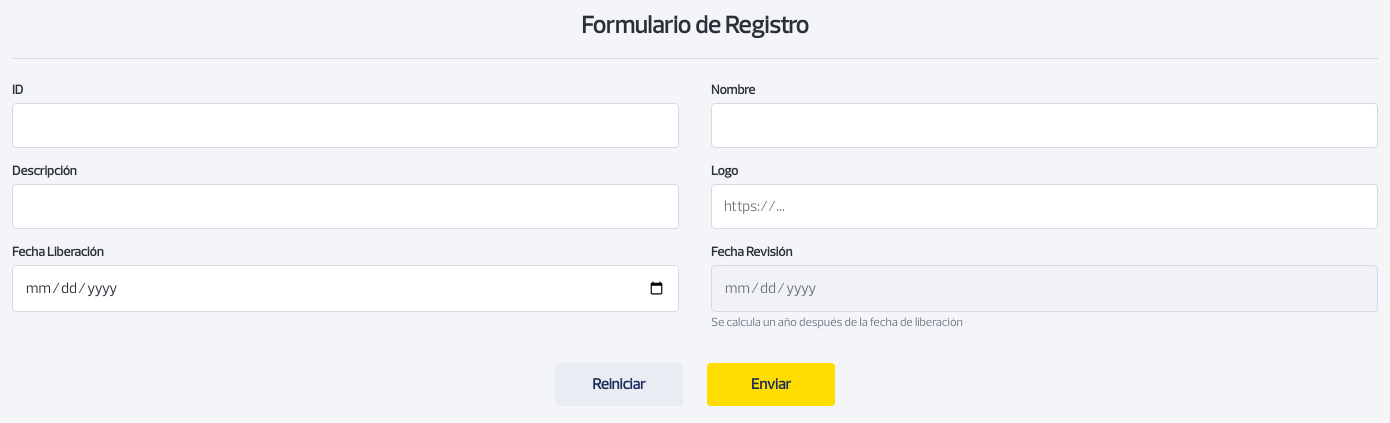
Scenario: ProductFormComponent › should show an error when date_release is "2025-06-14"
Type "2025-06-14" into the date field labelled "Fecha Liberación" at (346, 288), box [12, 265, 679, 312]
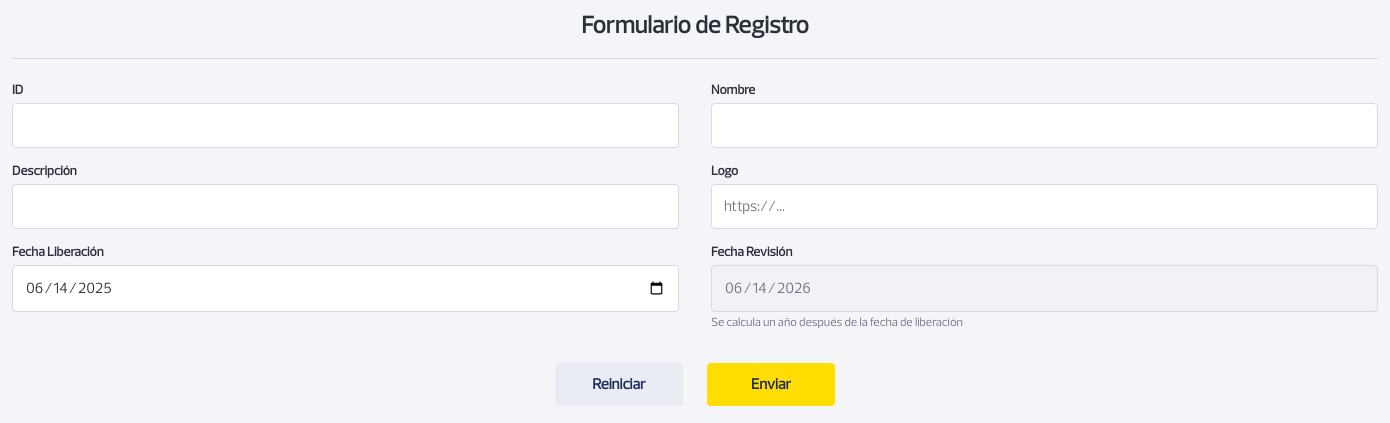
Leave the date field labelled "Fecha Liberación", box [12, 265, 679, 312]
Wait 300 ms
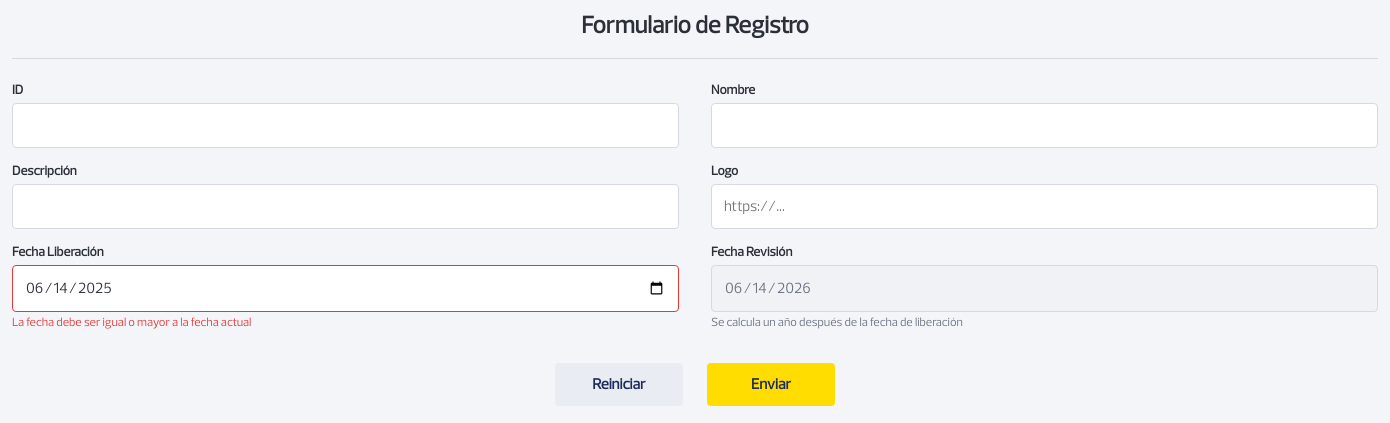
Expected: the text "La fecha debe ser igual o mayor a la fecha actual" is shown, [12, 317, 251, 329]
